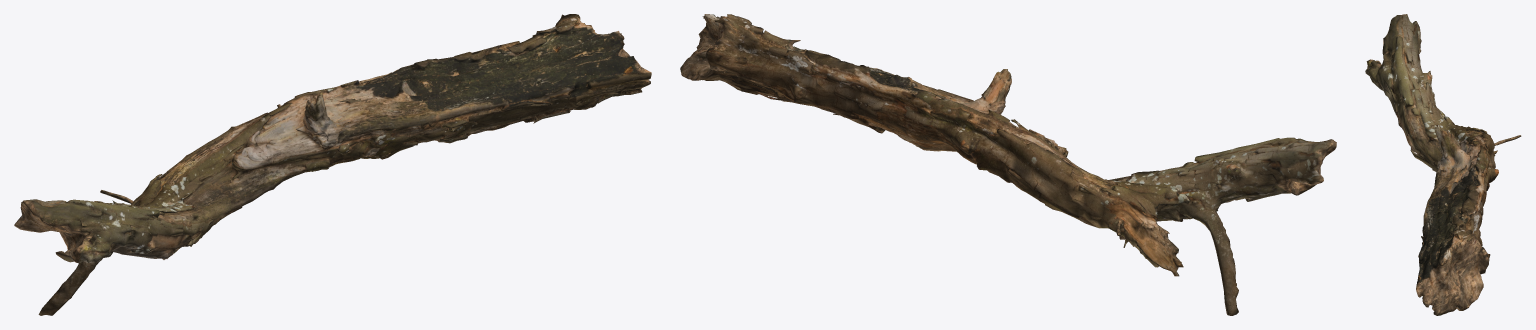
File: dead_tree_trunk_02.glb
3 renders of one model, left to right at view 1: azimuth 30°, elevation 25°; view 2: azimuth 150°, elevation 25°; view 3: azimuth 270°, elevation 25°, orthographic. The views are drawn at different scales.
Visible parts, largest first — view 1: dead_tree_trunk_02; view 2: dead_tree_trunk_02; view 3: dead_tree_trunk_02.
Boxes of the visible parts, bbox=[...] form: dead_tree_trunk_02: bbox=[14, 14, 651, 315]; dead_tree_trunk_02: bbox=[680, 14, 1336, 315]; dead_tree_trunk_02: bbox=[1365, 14, 1521, 315].
Size of the model in its own units: 4.05 by 1.05 by 1.05.
Materials: 1 (1 with a texture image).
